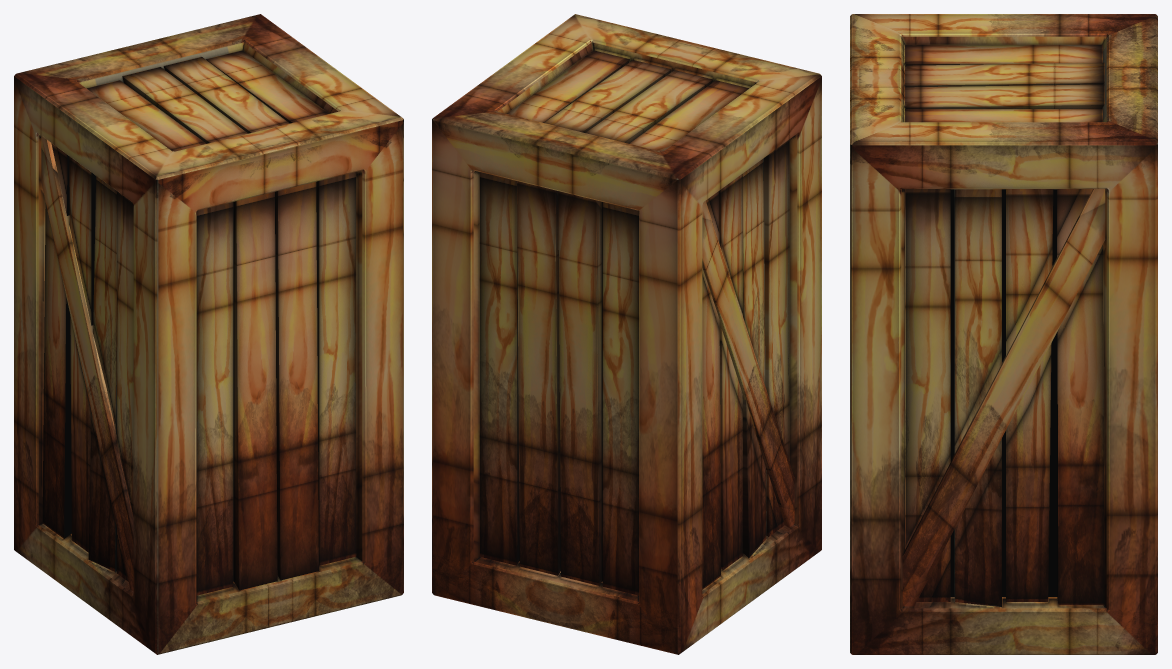
Rendered from crate02.FBX.
The picture shows the model from 3 angles, left to right: view 1: azimuth 30°, elevation 25°; view 2: azimuth 150°, elevation 25°; view 3: azimuth 270°, elevation 25°; orthographic projection. The views are drawn at different scales.
Visible parts, largest first — view 1: crate_004; view 2: crate_004; view 3: crate_004.
Part boxes in pixels (box(x1,y1,x2,y2)): crate_004: box(14, 14, 403, 654); crate_004: box(432, 14, 821, 654); crate_004: box(850, 14, 1157, 654).
Size of the model in its own units: 78.74 by 145 by 78.74.
